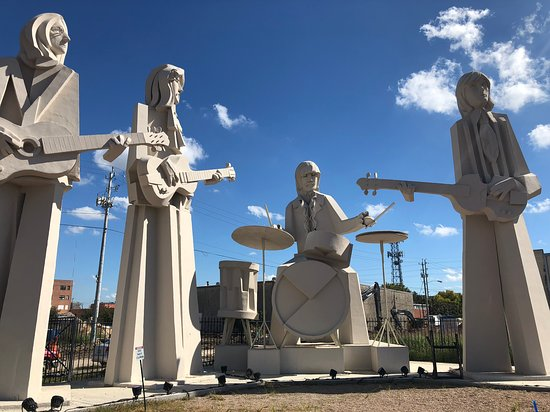person-like: (1, 8, 126, 412), (101, 59, 233, 389), (444, 66, 550, 372), (282, 156, 375, 266)
